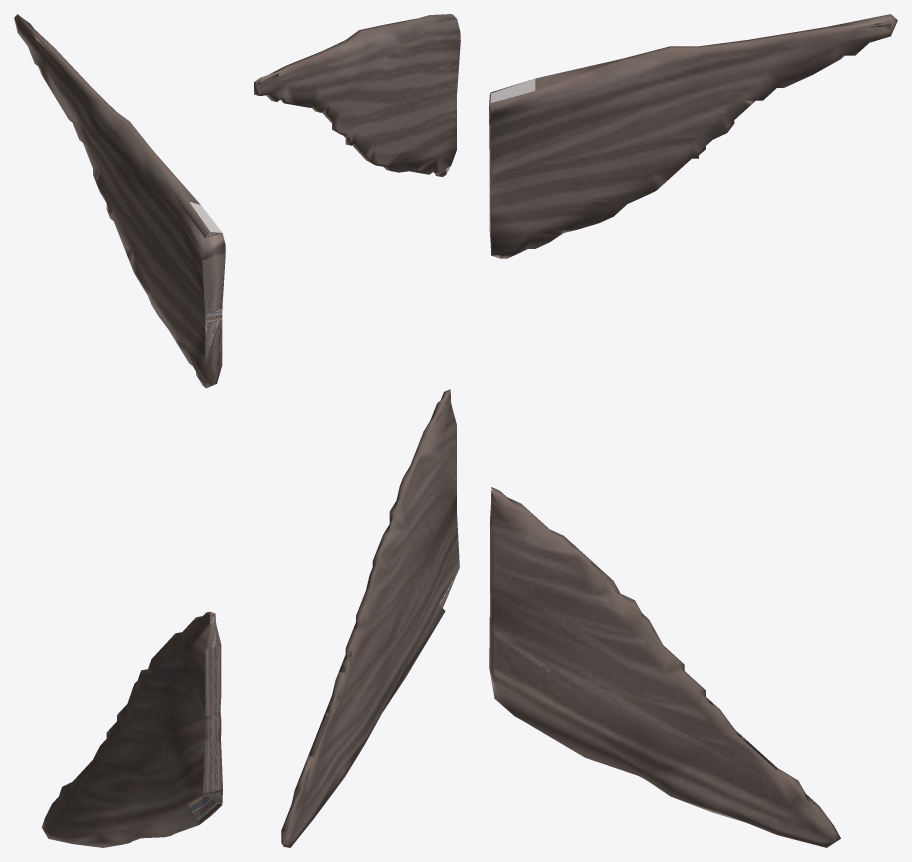
Rendered from ClaudalFins.glb.
The picture shows the model from 3 angles, left to right: view 1: azimuth 30°, elevation 25°; view 2: azimuth 150°, elevation 25°; view 3: azimuth 270°, elevation 25°; orthographic projection. The views are drawn at different scales.
Visible parts, largest first — view 1: geometry_0.006; view 2: geometry_0.006; view 3: geometry_0.006.
Boxes of the visible parts, box(x1,y1,x2,y2) form: geometry_0.006: box(14, 14, 225, 847); geometry_0.006: box(254, 14, 460, 847); geometry_0.006: box(489, 14, 897, 847).
Bounding box in the file's own units: 0.00805 × 0.252 × 0.1124.
Materials: 1 (1 with a texture image).
